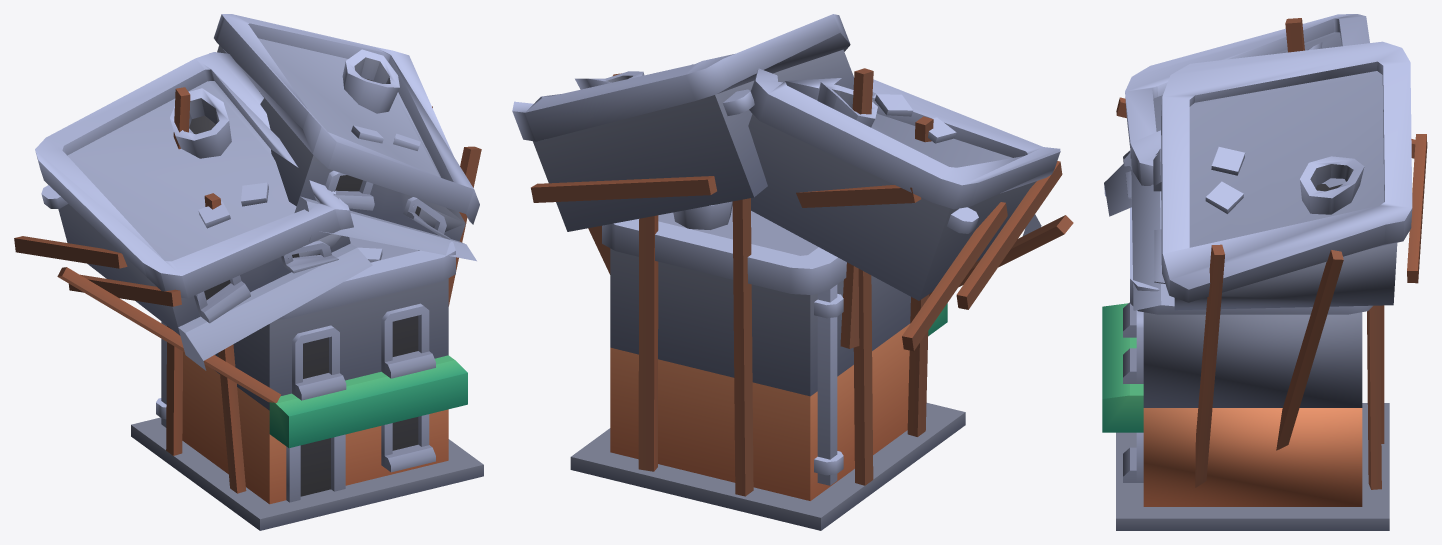
The model's file is building_over_3.glb.
The picture shows the model from 3 angles, left to right: view 1: azimuth 30°, elevation 25°; view 2: azimuth 150°, elevation 25°; view 3: azimuth 270°, elevation 25°; orthographic projection. The views are drawn at different scales.
Visible parts, largest first — view 1: bd-4; view 2: bd-4; view 3: bd-4.
Part boxes in pixels (x1,y1,x2,y2): bd-4: (14,14,483,530); bd-4: (512,14,1073,530); bd-4: (1102,14,1427,530).
Size of the model in its own units: 1.89 by 1.71 by 1.19.
Materials: 2 (2 with a texture image).
